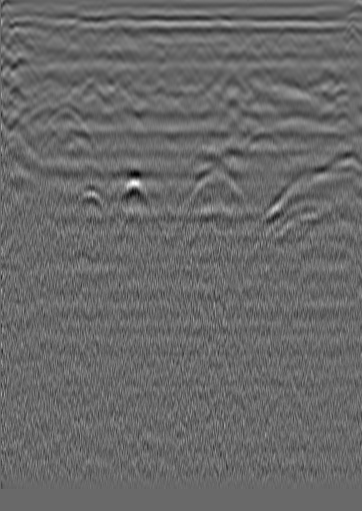가스: (116, 168, 151, 210)
상수: (308, 39, 328, 59)
오수: (19, 40, 39, 60)
우수: (179, 46, 199, 66)
